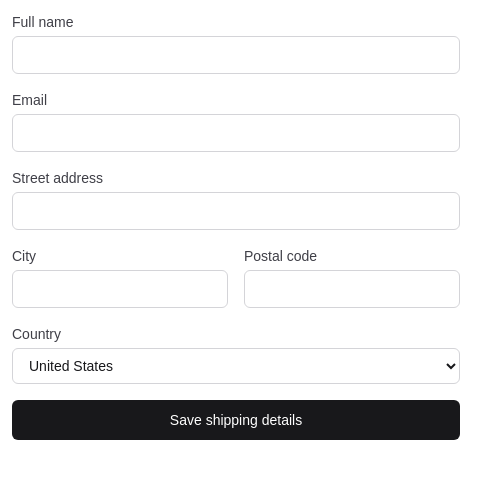
Test case: ShippingAddressForm › shows a root-level error when the server rejects the request, and keeps the form visible
The image size is (478, 495).
Type "Ada Lovelace" into the field labelled "Full name" at (236, 55), box [12,36,460,74]
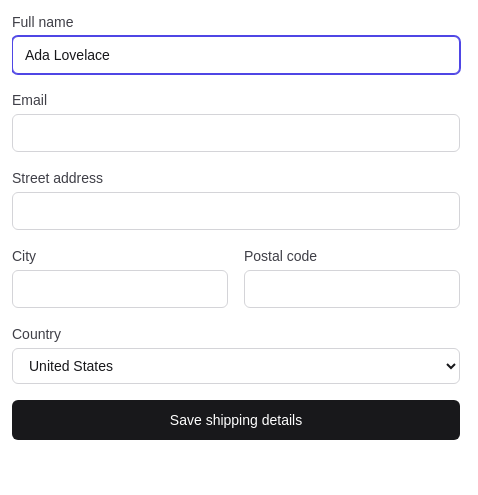
Type "ada@example.com" into the field labelled "Email" at (236, 133), box [12,114,460,152]
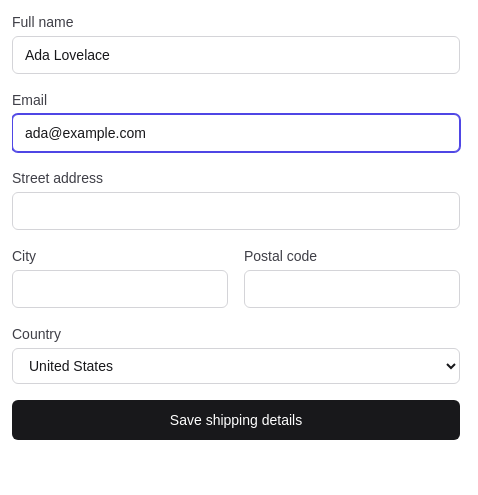
Type "123 Analytical Engine Ave" into the field labelled "Street address" at (236, 211), box [12,192,460,230]
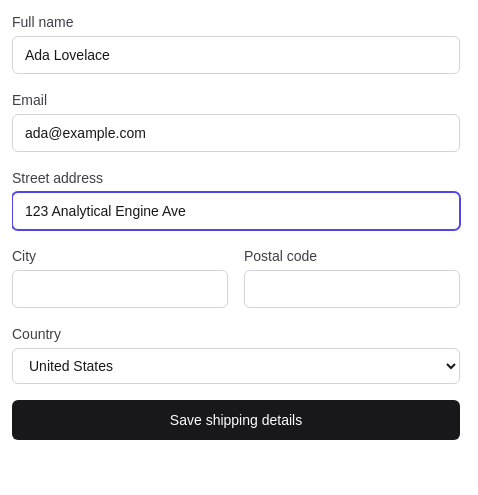
Type "London" into the field labelled "City" at (120, 289), box [12,270,228,308]
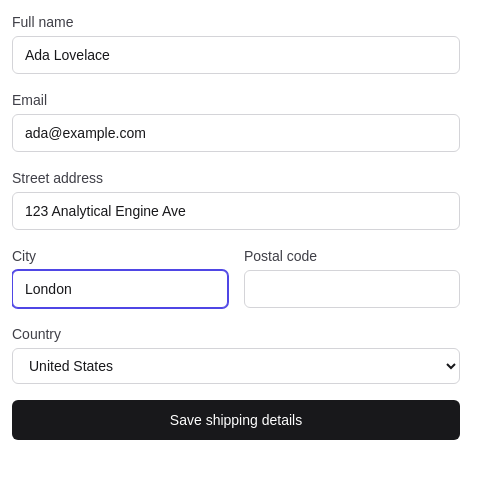
Type "SW1A1AA" into the field labelled "Postal code" at (352, 289), box [244,270,460,308]
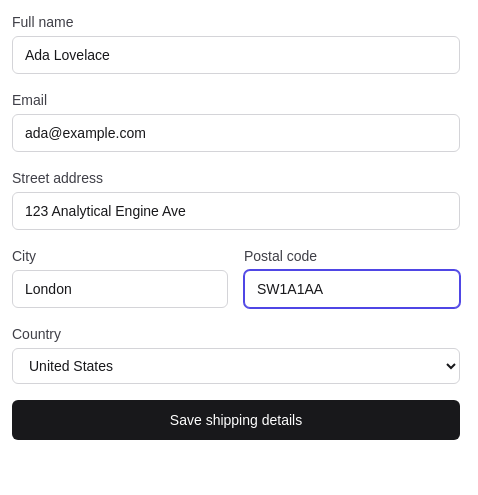
Click the button "Save shipping details" at (236, 420), box [12,400,460,440]
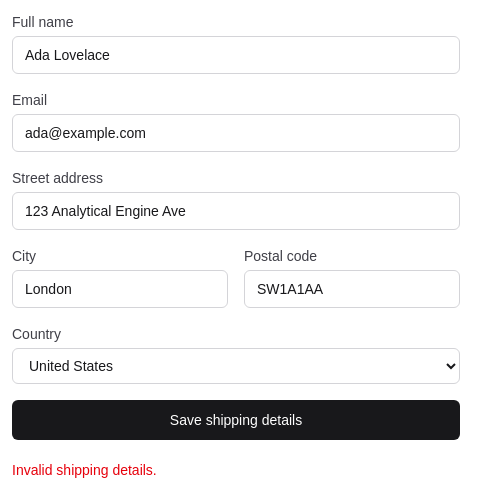
Expected: the text "Invalid shipping details." is shown, [12,462,157,478]
